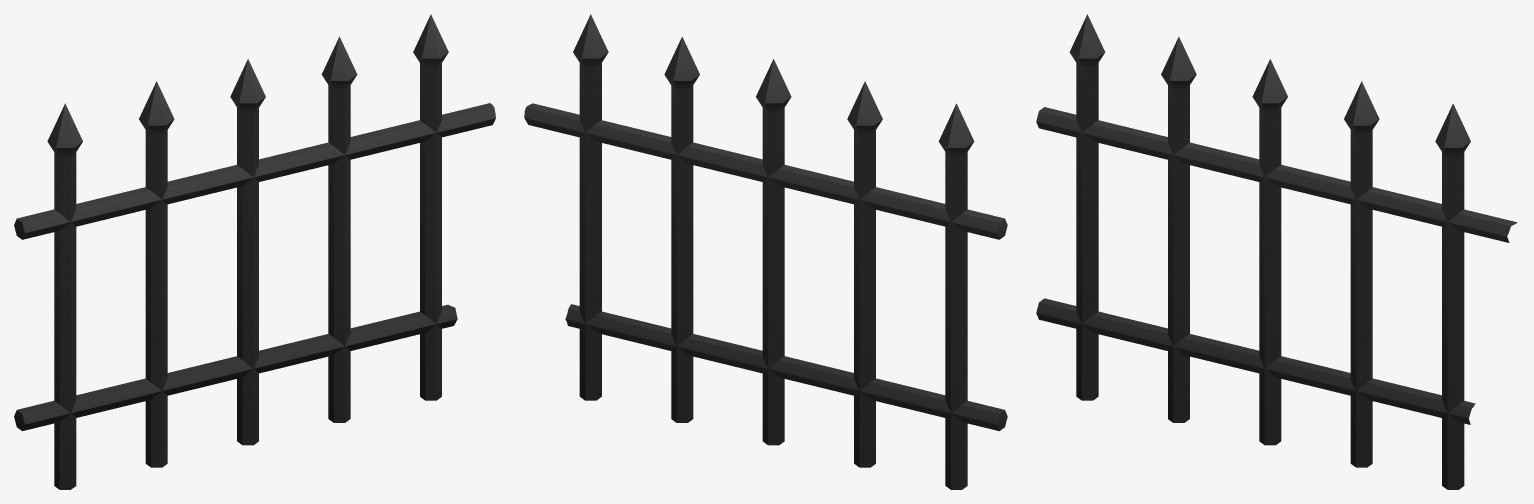
The model's file is fence half2.glb.
The picture shows the model from 3 angles, left to right: view 1: azimuth 30°, elevation 25°; view 2: azimuth 150°, elevation 25°; view 3: azimuth 330°, elevation 25°; orthographic projection.
Visible parts, largest first — view 1: fence_seperate; view 2: fence_seperate; view 3: fence_seperate.
Boxes of the visible parts, bbox=[...] form: fence_seperate: bbox=[14, 14, 495, 489]; fence_seperate: bbox=[524, 14, 1007, 489]; fence_seperate: bbox=[1036, 14, 1517, 489].
Size of the model in its own units: 2.59 by 2 by 0.1696.
1 material, 1 textured.
